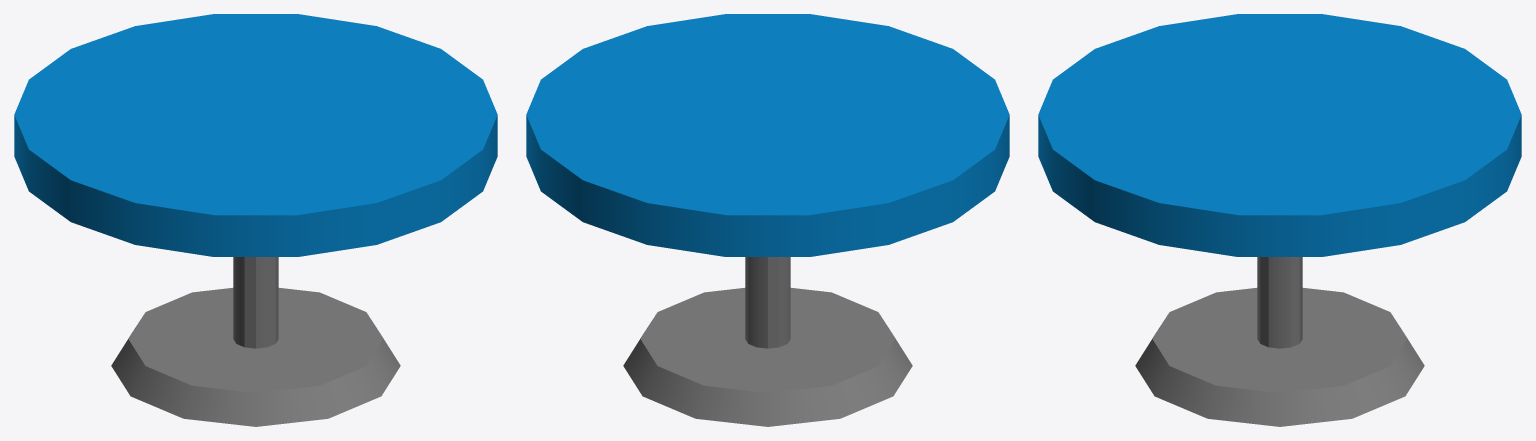
File: Table_02.fbx
The picture shows the model from 3 angles, left to right: view 1: azimuth 30°, elevation 25°; view 2: azimuth 150°, elevation 25°; view 3: azimuth 270°, elevation 25°; orthographic projection.
Parts seen in each view (by area): view 1: Table_02; view 2: Table_02; view 3: Table_02.
Boxes of the visible parts, x1,y1,x2,y2 form: Table_02: [14, 14, 497, 426]; Table_02: [526, 14, 1009, 426]; Table_02: [1038, 14, 1521, 426].
Bounding box in the file's own units: 98.62 × 57.42 × 100.
